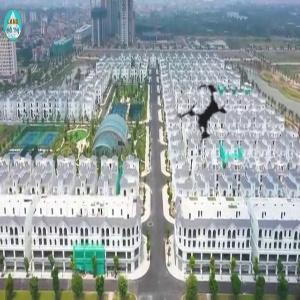drone: (156, 65, 253, 162)
